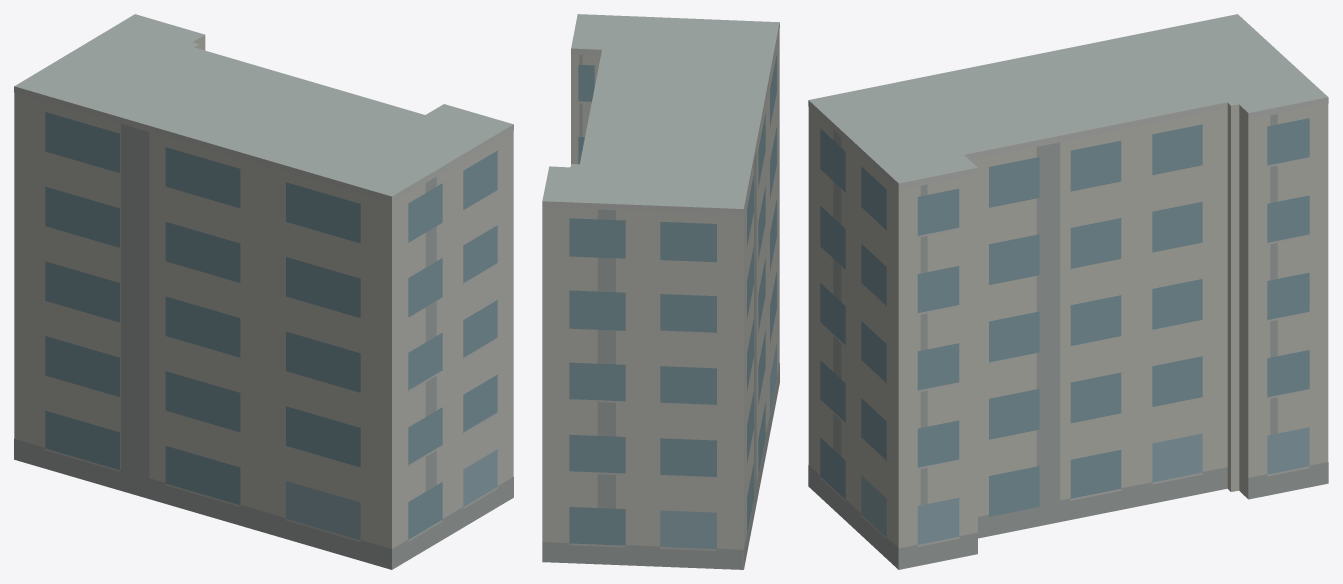
File: survey-upis-33026244.glb
3 views of the same model, side by side, from view 1: azimuth 30°, elevation 25°; view 2: azimuth 150°, elevation 25°; view 3: azimuth 270°, elevation 25° (orthographic). The views are drawn at different scales.
Visible parts, largest first — view 1: survey-upis-33026244.tmp; view 2: survey-upis-33026244.tmp; view 3: survey-upis-33026244.tmp.
Part boxes in pixels (left/top/right/bottom): survey-upis-33026244.tmp: left=14, top=14, right=513, bottom=569; survey-upis-33026244.tmp: left=542, top=14, right=779, bottom=569; survey-upis-33026244.tmp: left=808, top=14, right=1328, bottom=569.
Bounding box in the file's own units: 13.56 × 14.4 × 17.58.
